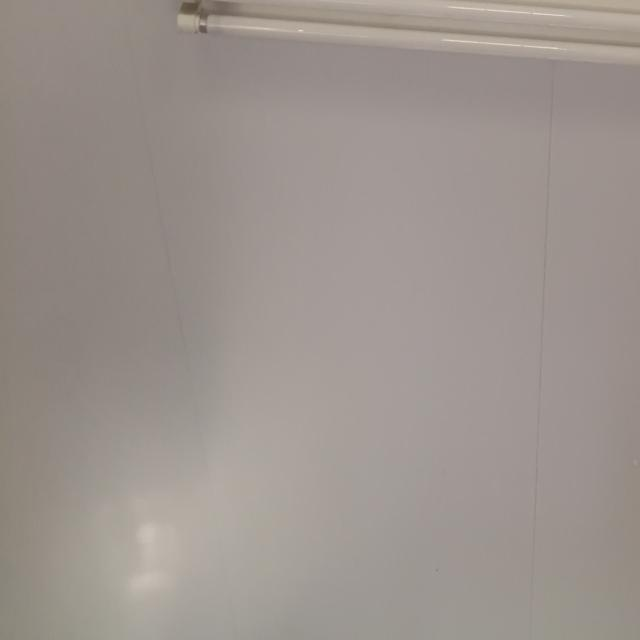fluorescent tube: (134, 0, 640, 138)
